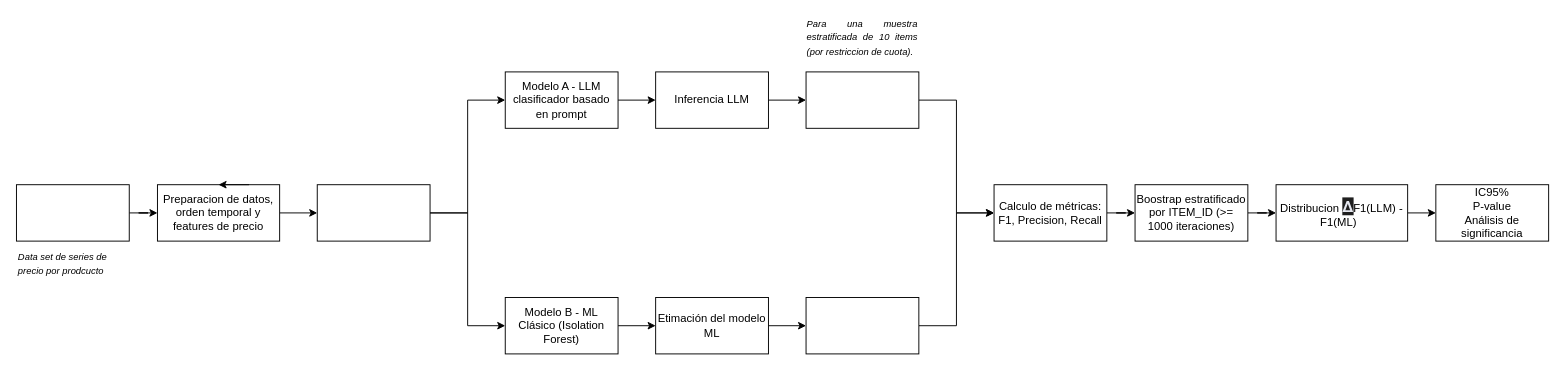
The diagram is 1565 pixels wide and 370 high, and some of its shapes have lost their labels. Here are the shapes that lost their labels. From the top down, the centre of each, then its label:
the point at 862,99: Predicciones LLM
the point at 72,212: Ingesta de datos Precios_historicos.csv
the point at 373,212: Agrupación por item_id
the point at 862,325: Predicciones ML
